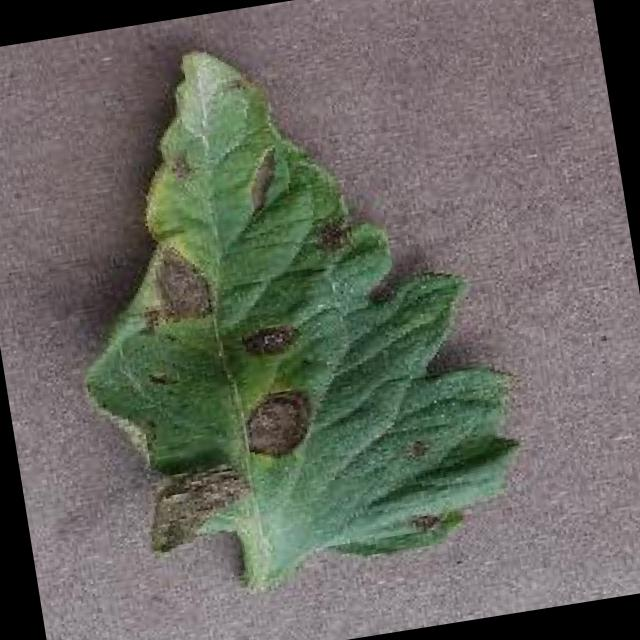Tomato_Early_Blight: (36, 44, 412, 597)
